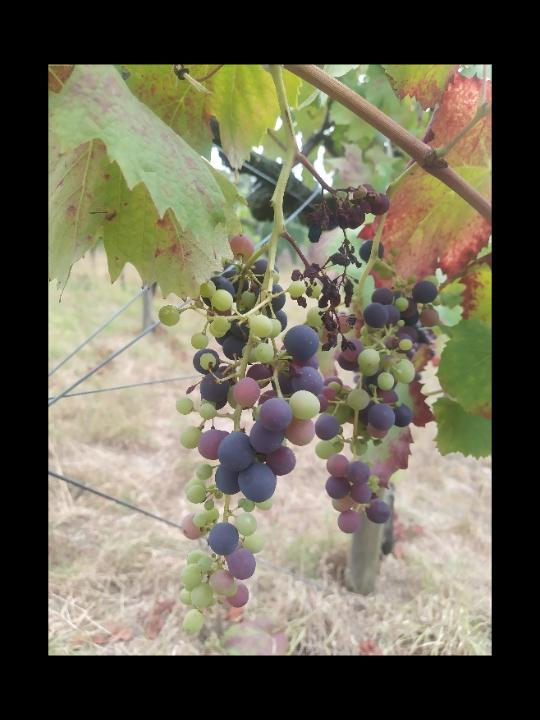grape: (154, 235, 357, 636), (304, 184, 391, 307)
